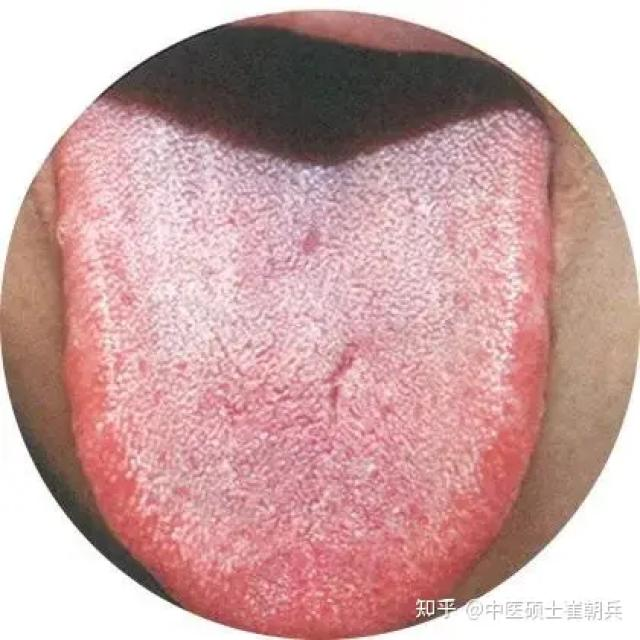tongue: (61, 96, 543, 608)
